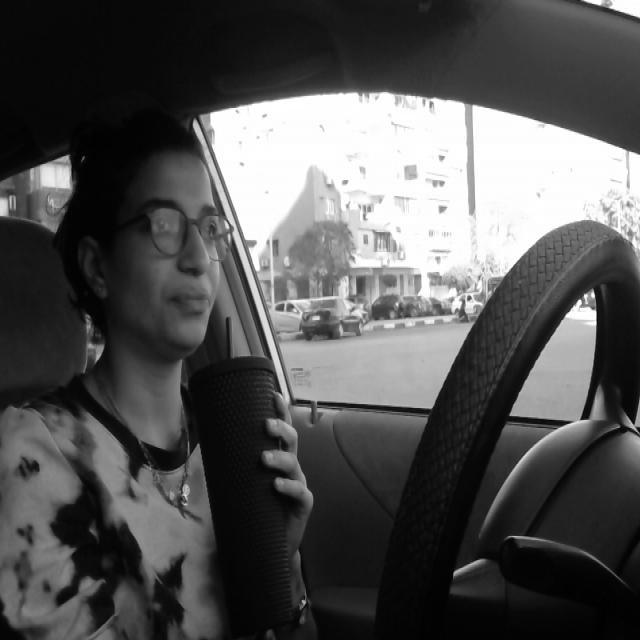Drinking: (182, 355, 310, 631)
